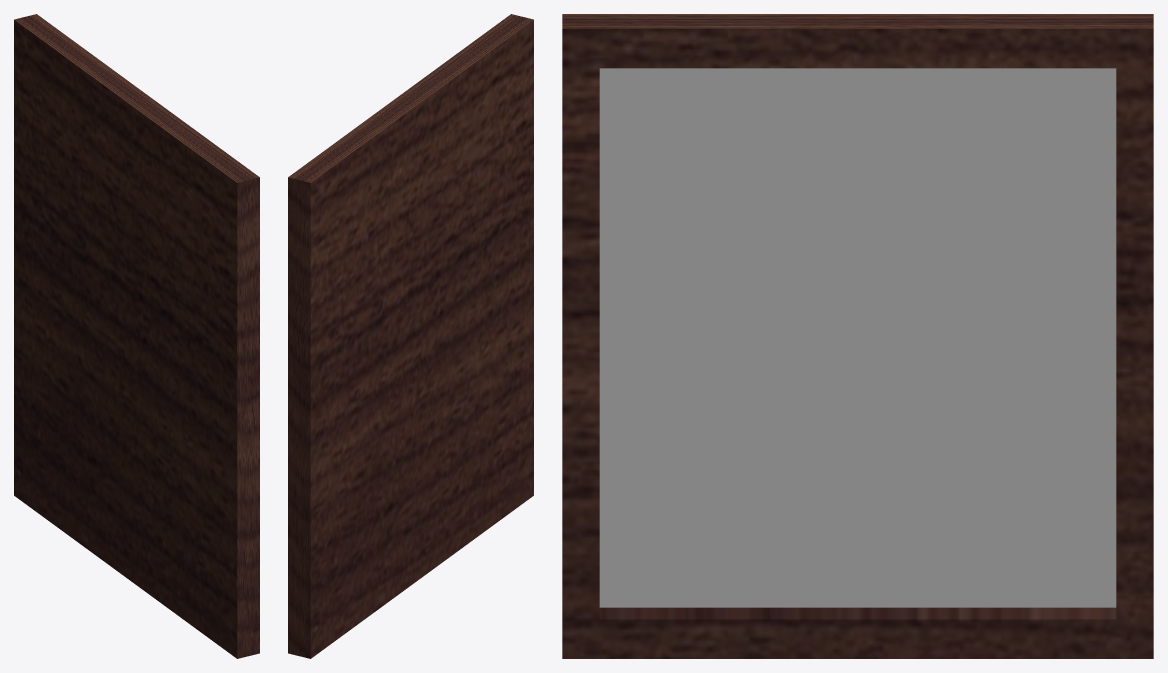
File: FRAME KAYU d.fbx
3 views of the same model, side by side, from view 1: azimuth 30°, elevation 25°; view 2: azimuth 150°, elevation 25°; view 3: azimuth 270°, elevation 25° (orthographic). The views are drawn at different scales.
Parts seen in each view (by area): view 1: Cube; view 2: Cube; view 3: Cube.
Part boxes in pixels (left/top/right/bottom): Cube: left=14, top=14, right=259, bottom=658; Cube: left=288, top=14, right=533, bottom=658; Cube: left=562, top=14, right=1153, bottom=658.
Size of the model in its own units: 10 by 200 by 170.
